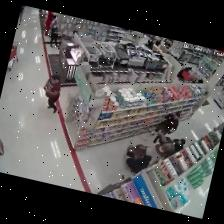person: (43, 75, 60, 112), (151, 112, 179, 134), (155, 133, 174, 157), (125, 155, 150, 173), (165, 137, 184, 152), (49, 22, 57, 47), (172, 139, 184, 152), (19, 5, 24, 22)
